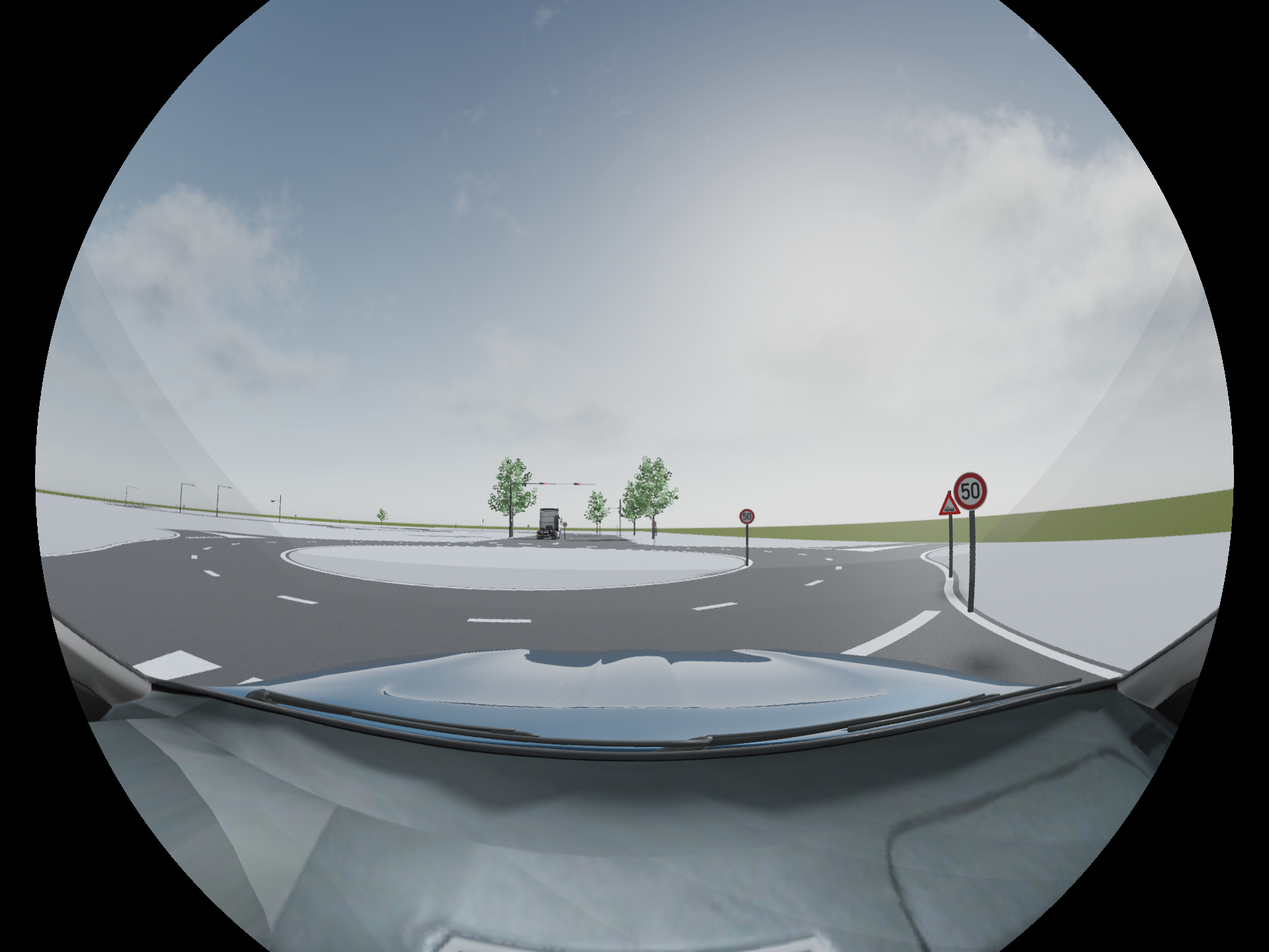Speed Limit 50: (957, 473, 988, 508), (739, 508, 755, 526)
